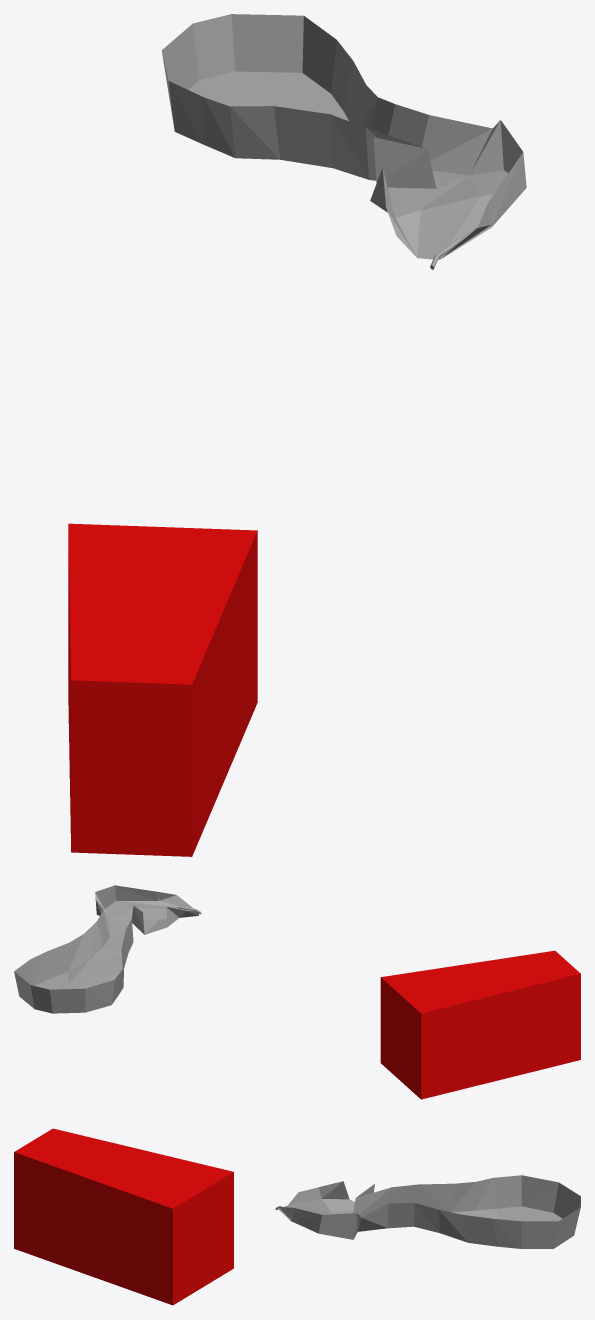
The model's file is GreyBox1.fbx.
3 views of the same model, one above another, from view 1: azimuth 30°, elevation 25°; view 2: azimuth 150°, elevation 25°; view 3: azimuth 270°, elevation 25° (orthographic). The views are drawn at different scales.
Visible parts, largest first — view 1: Space_Ship, pPlane1; view 2: Space_Ship, pPlane1; view 3: Space_Ship, pPlane1.
Boxes of the visible parts, <box> form: Space_Ship: <box>68,523,257,856</box>; pPlane1: <box>161,14,526,259</box>; Space_Ship: <box>380,950,580,1099</box>; pPlane1: <box>14,885,199,1013</box>; Space_Ship: <box>14,1128,233,1305</box>; pPlane1: <box>278,1175,580,1248</box>.
Size of the model in its own units: 97.72 by 48.42 by 122.
